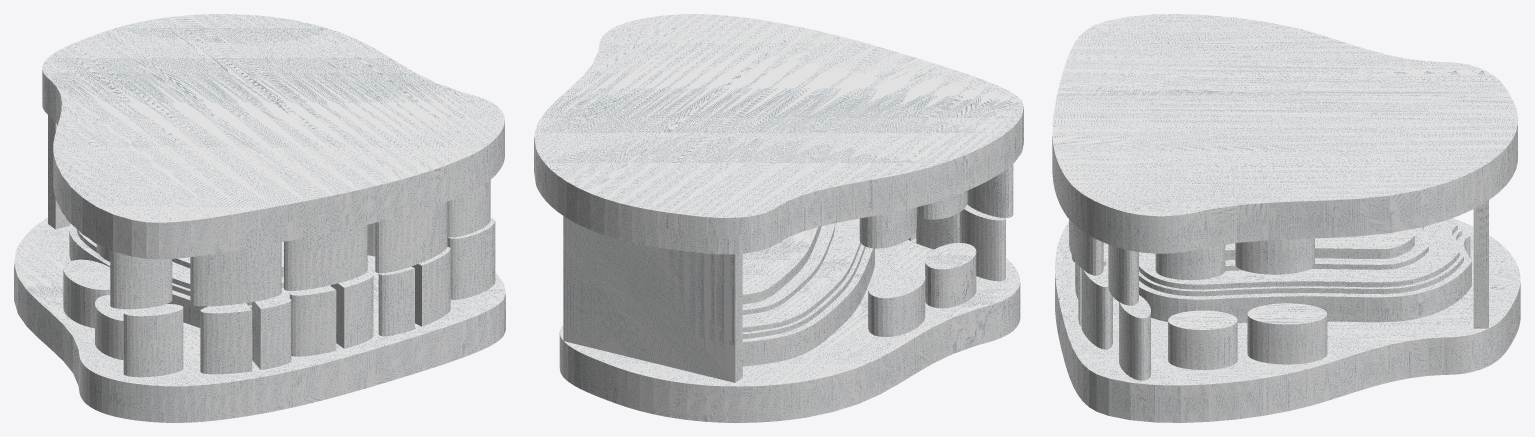
Rendered from teeth.dae.
3 views of the same model, side by side, from view 1: azimuth 30°, elevation 25°; view 2: azimuth 150°, elevation 25°; view 3: azimuth 270°, elevation 25° (orthographic). The views are drawn at different scales.
Parts seen in each view (by area): view 1: instance_0 (×6), instance_1 (×9), SketchUp; view 2: instance_0 (×4), instance_1 (×10), SketchUp; view 3: instance_0 (×5), instance_1 (×10), SketchUp.
Part boxes in pixels (x1,y1,x2,y2): instance_0 (×6): (42,14,504,309); instance_1 (×9): (14,217,505,422); SketchUp: (48,115,70,229); instance_0 (×4): (534,14,1023,254); instance_1 (×10): (559,204,1020,422); SketchUp: (563,216,742,382); instance_0 (×5): (1052,14,1517,305); instance_1 (×10): (1055,218,1520,422); SketchUp: (1473,200,1488,328).
Bounding box in the file's own units: 6.85 × 6.68 × 3.27.
